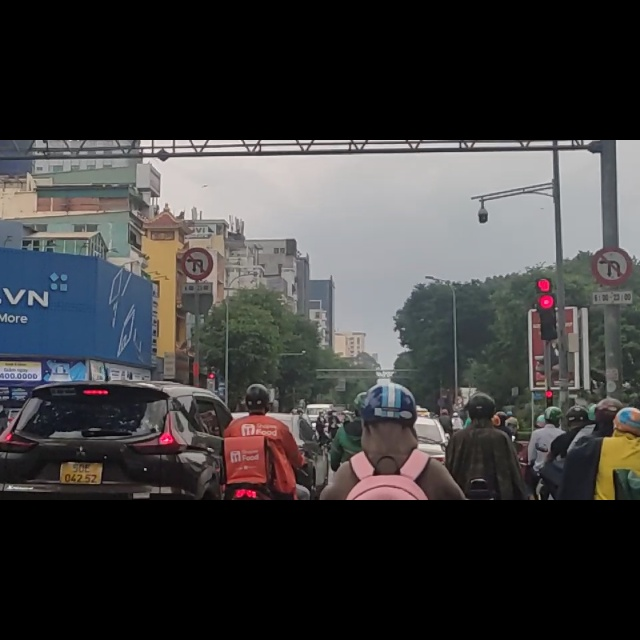bien_cam: (596, 192, 629, 251), (183, 190, 213, 247)
